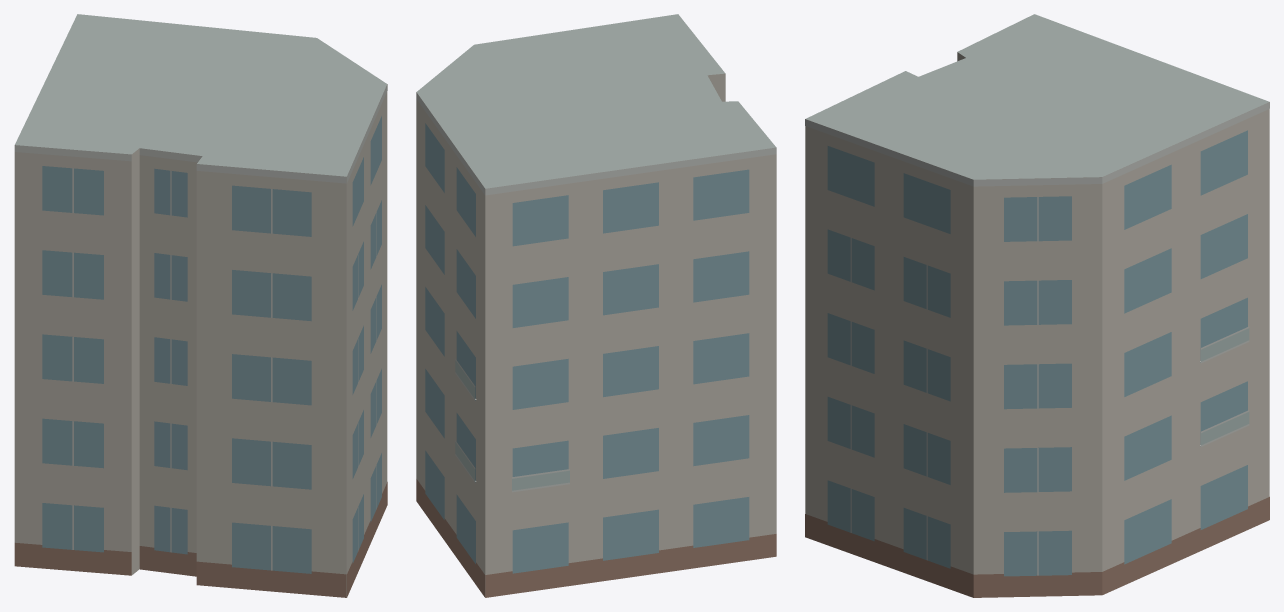
File: survey-upis-33025894.glb
The picture shows the model from 3 angles, left to right: view 1: azimuth 30°, elevation 25°; view 2: azimuth 150°, elevation 25°; view 3: azimuth 270°, elevation 25°; orthographic projection. The views are drawn at different scales.
Visible parts, largest first — view 1: survey-upis-33025894.tmp; view 2: survey-upis-33025894.tmp; view 3: survey-upis-33025894.tmp.
Boxes of the visible parts, x1,y1,x2,y2 form: survey-upis-33025894.tmp: (14, 14, 387, 597); survey-upis-33025894.tmp: (416, 14, 776, 597); survey-upis-33025894.tmp: (805, 14, 1269, 597).
Size of the model in its own units: 12.63 by 14.85 by 14.96.
